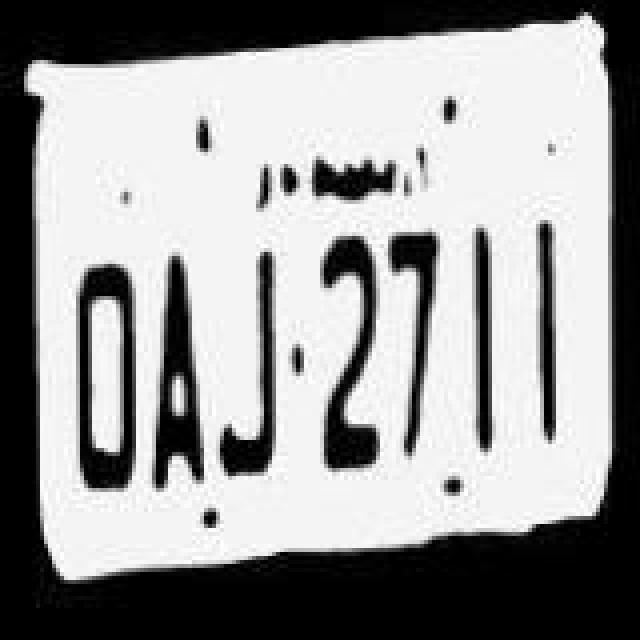1: (528, 210, 580, 474), (464, 204, 516, 464)
2: (308, 222, 384, 474)
7: (386, 220, 450, 460)
A: (144, 244, 212, 496)
J: (212, 234, 288, 490)
O: (68, 242, 144, 498)
